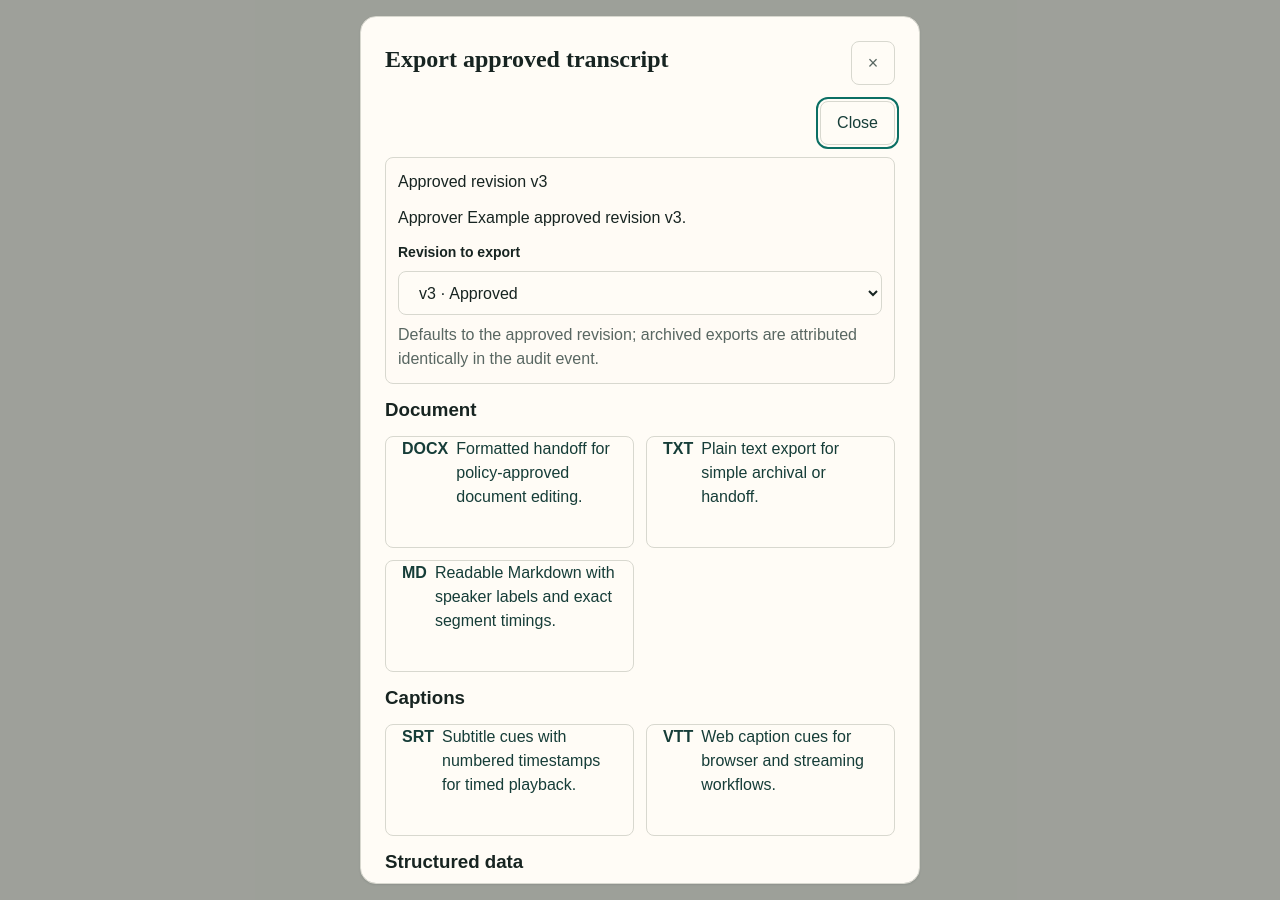
Test case: ExportDialog › stacks session recovery above export and restores export after Escape
This screenshot has width=1280, height=900.
Click the button "DOCX" at coordinates (510, 492), box [385, 436, 634, 548]
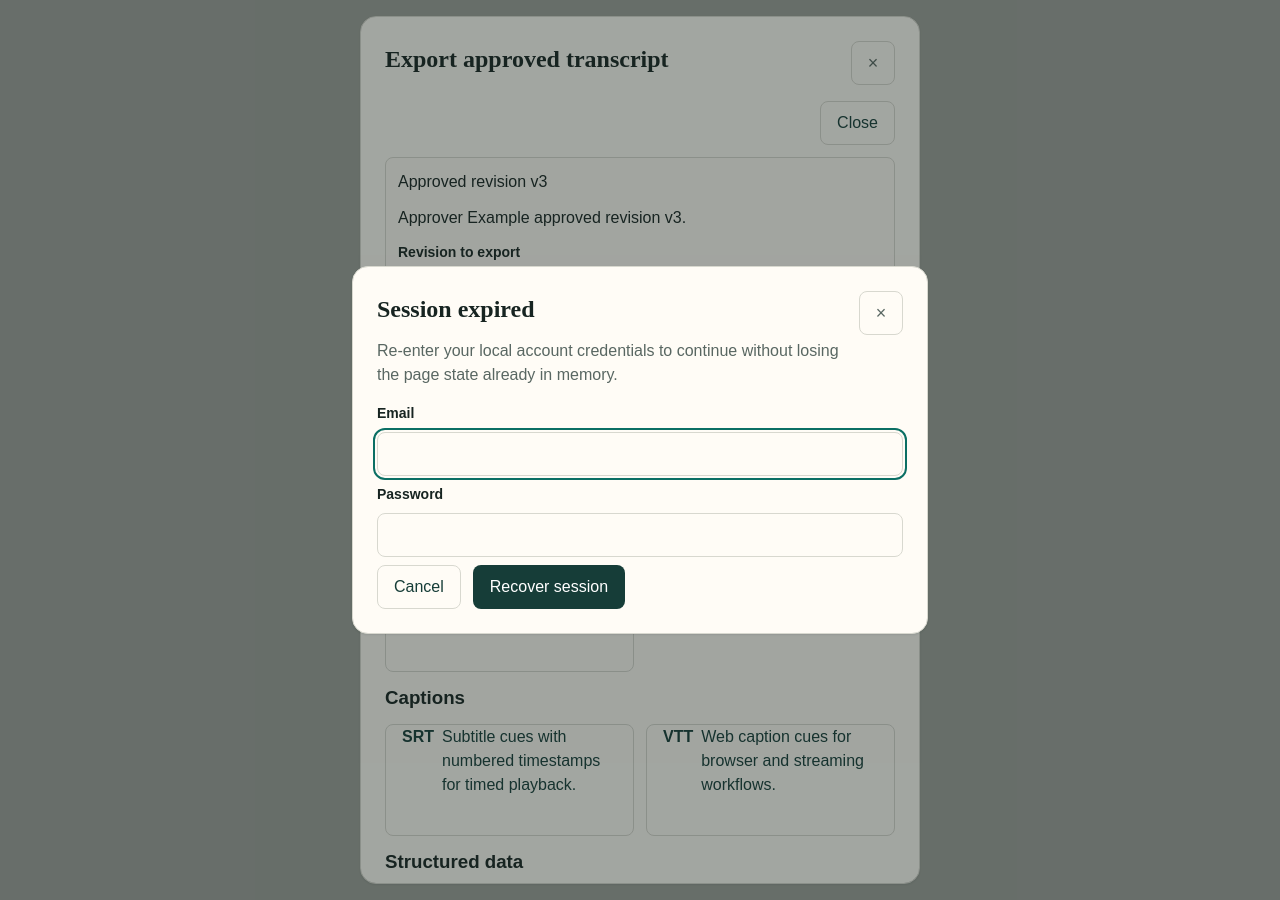
expect the element with test id "export-backdrop" has attribute inert: met
expect the element with test id "export-backdrop" has attribute aria-hidden="true": met
Press Escape
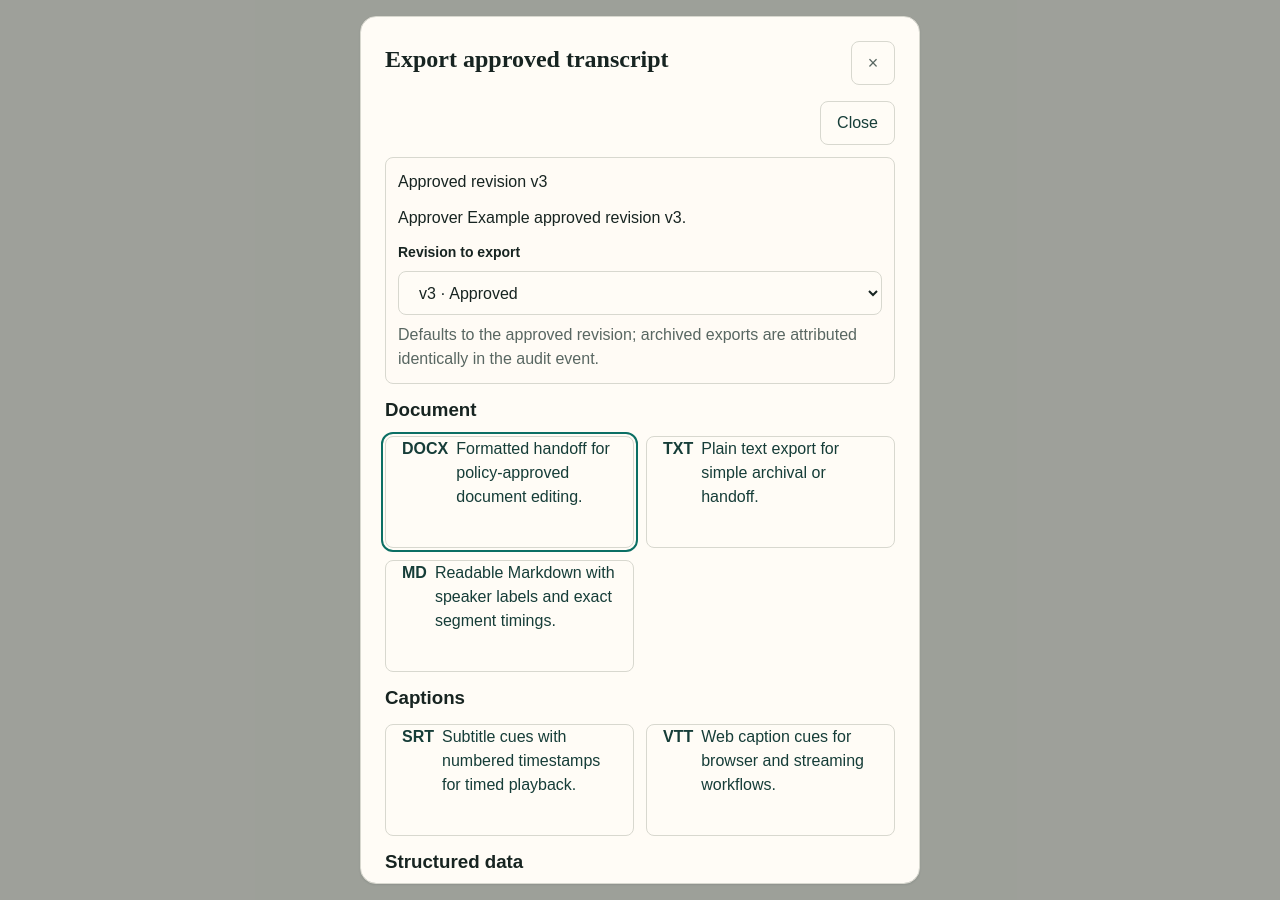
expect the dialog "Export approved transcript" is shown: met, box [360, 16, 920, 884]
expect the heading "Session expired" is gone: met
